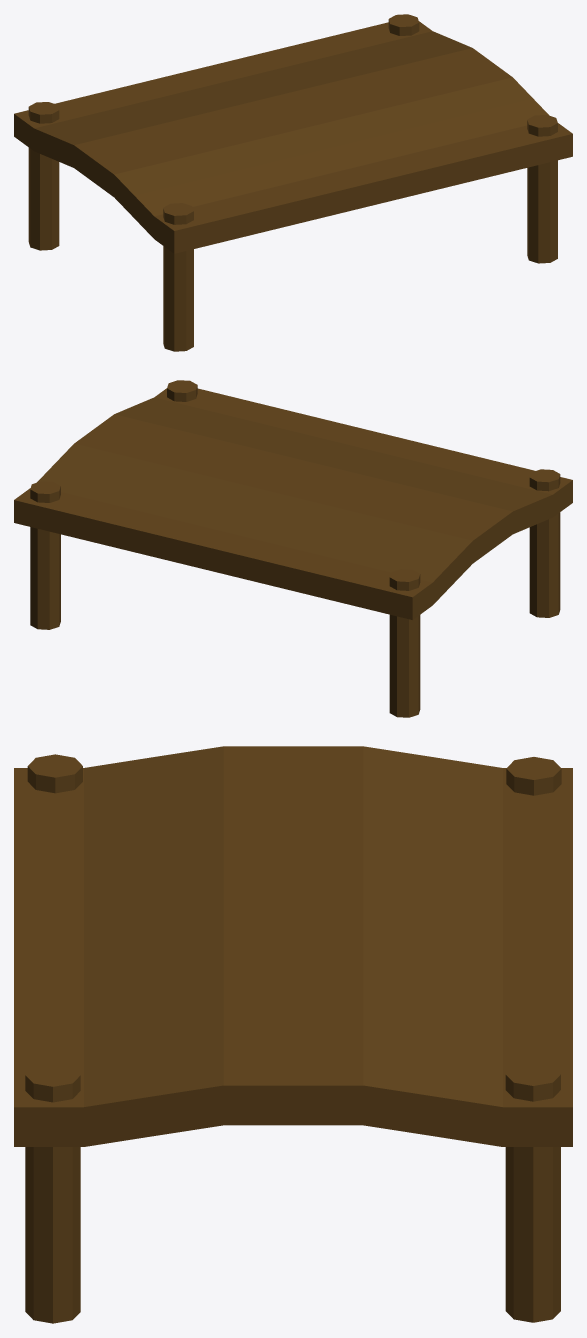
File: outdoorTable.fbx
3 views of the same model, one above another, from view 1: azimuth 30°, elevation 25°; view 2: azimuth 150°, elevation 25°; view 3: azimuth 270°, elevation 25° (orthographic). The views are drawn at different scales.
Visible parts, largest first — view 1: Cylinder.030; view 2: Cylinder.030; view 3: Cylinder.030.
Part boxes in pixels (x1,y1,x2,y2): Cylinder.030: (14, 14, 572, 351); Cylinder.030: (14, 380, 572, 717); Cylinder.030: (14, 746, 572, 1323).
Size of the model in its own units: 428 by 614 by 205.
